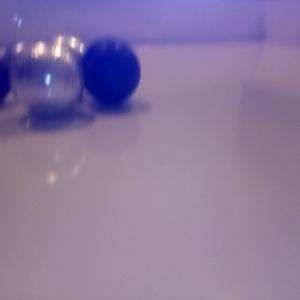alive_ball: (10, 42, 81, 114), (45, 34, 90, 86), (3, 39, 43, 87)
dead_ball: (79, 38, 141, 107), (1, 60, 14, 102)
